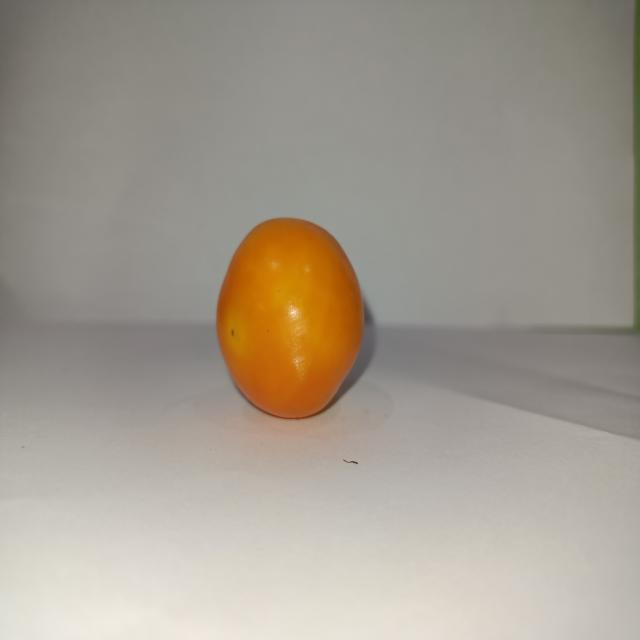Red: (214, 215, 365, 419)
